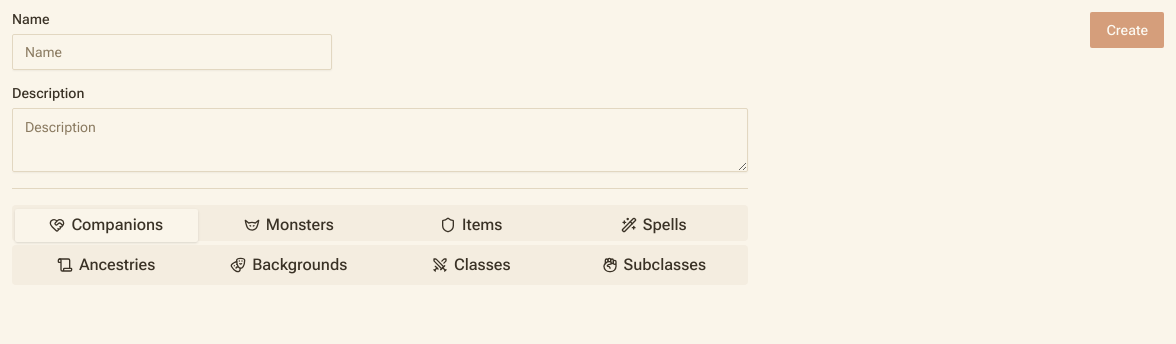
Test: collection editor mutation › shows a save failure without clearing the draft
Step 1. Type "Unsaved Collection" into the field labelled "Name" → (172, 52), box [12,34,332,70]
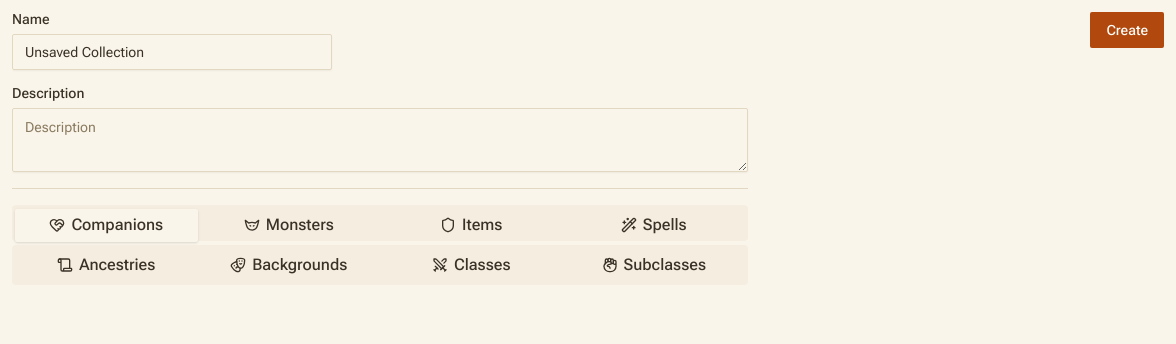
Step 2. Click the button "Create" → (1127, 30), box [1090,12,1164,48]
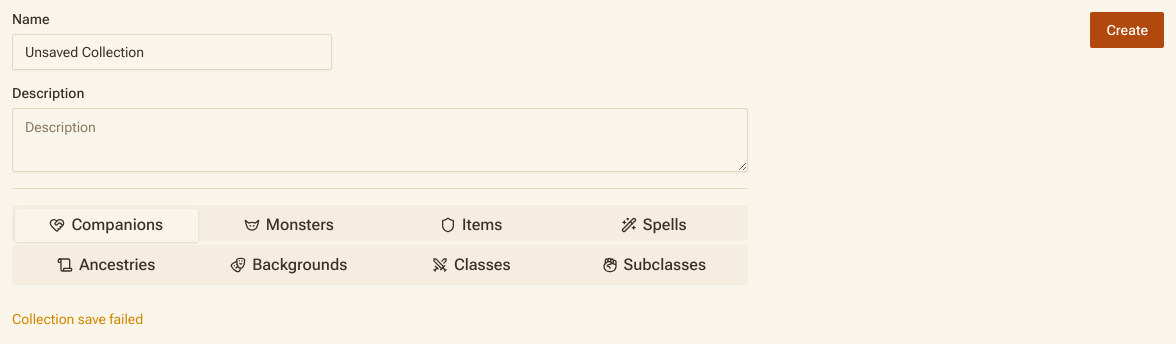
Now the text "Collection save failed" is shown, box [12,311,143,327]
